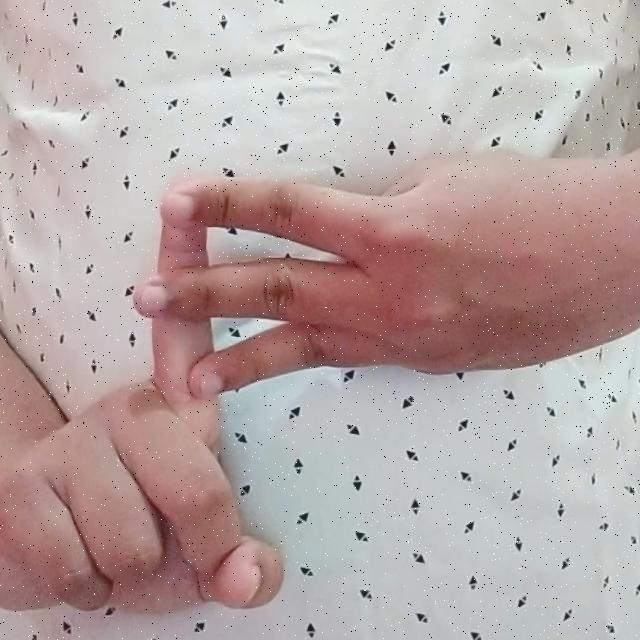B: (8, 148, 600, 620)
